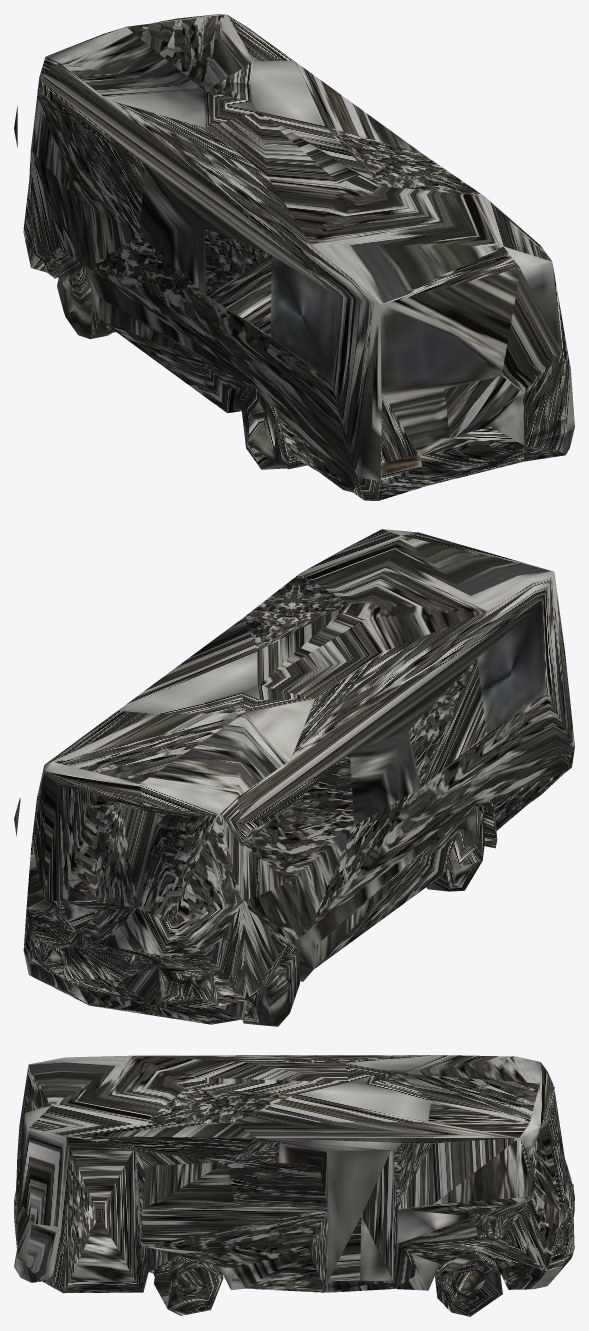
The model's file is paz_3205_bus_11000.glb.
The picture shows the model from 3 angles, top to bottom: view 1: azimuth 30°, elevation 25°; view 2: azimuth 150°, elevation 25°; view 3: azimuth 270°, elevation 25°; orthographic projection. The views are drawn at different scales.
Parts seen in each view (by area): view 1: output_unwrapped; view 2: output_unwrapped; view 3: output_unwrapped.
Boxes of the visible parts, x1=… form: output_unwrapped: x1=14, y1=14, x2=574, y2=500; output_unwrapped: x1=14, y1=529, x2=574, y2=1026; output_unwrapped: x1=14, y1=1055, x2=574, y2=1316.
Bounding box in the file's own units: 2.77 × 2.82 × 7.18.
1 material, 1 textured.
